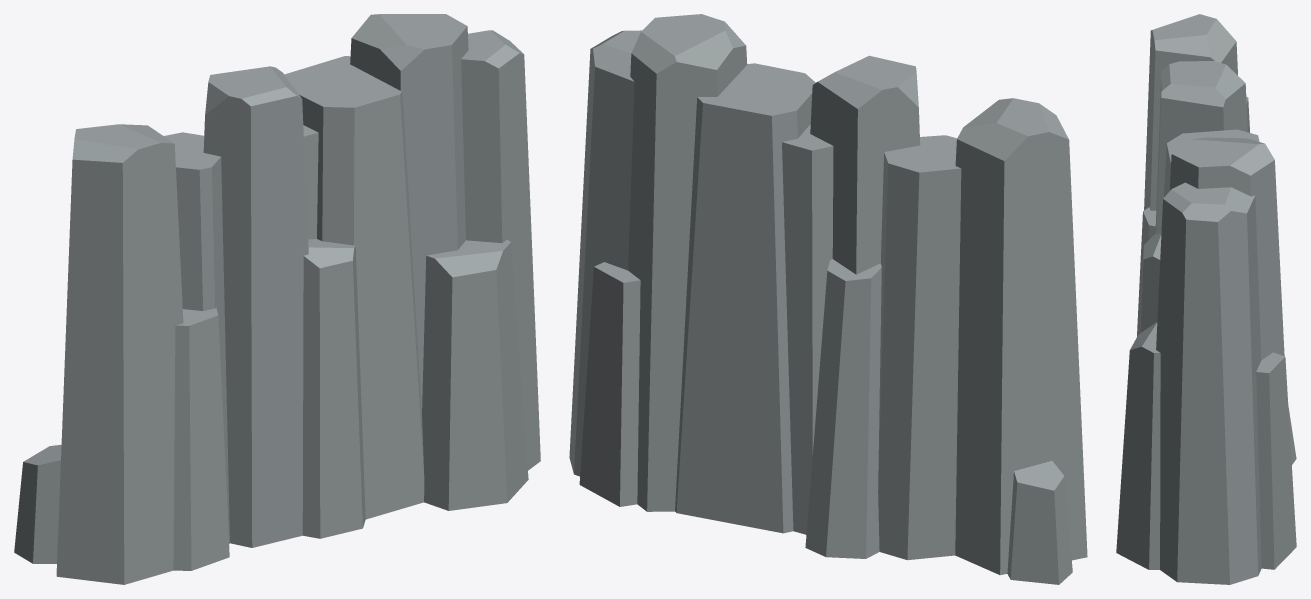
The model's file is NHP_Rock_Wall_A2_03.fbx.
The picture shows the model from 3 angles, left to right: view 1: azimuth 30°, elevation 25°; view 2: azimuth 150°, elevation 25°; view 3: azimuth 270°, elevation 25°; orthographic projection. The views are drawn at different scales.
Visible parts, largest first — view 1: NHP_Rock_Wall_A2_03; view 2: NHP_Rock_Wall_A2_03; view 3: NHP_Rock_Wall_A2_03.
Part boxes in pixels (x1=…): NHP_Rock_Wall_A2_03: x1=14, y1=14, x2=540, y2=584; NHP_Rock_Wall_A2_03: x1=569, y1=14, x2=1087, y2=584; NHP_Rock_Wall_A2_03: x1=1116, y1=14, x2=1296, y2=584.
Size of the model in its own units: 5.46 by 4.65 by 1.96.
